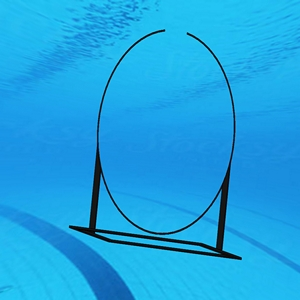circle: (67, 26, 246, 264)
